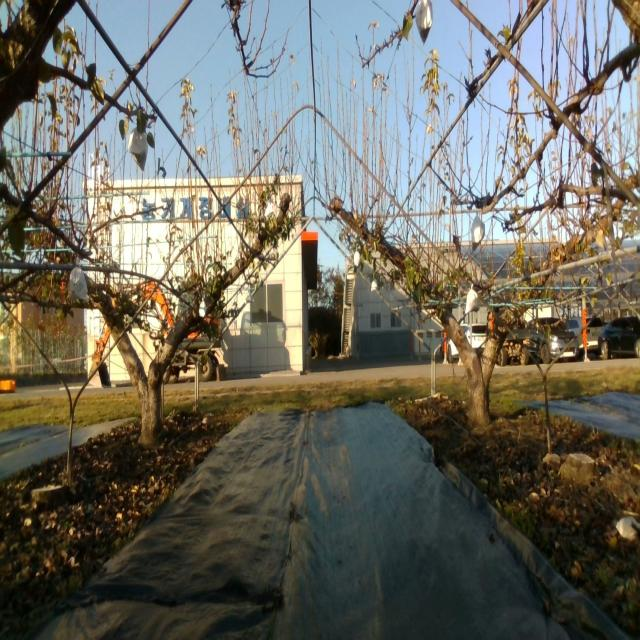pearbags: (128, 128, 147, 172), (415, 0, 432, 45), (68, 268, 88, 300), (471, 215, 485, 251), (464, 284, 479, 316)
